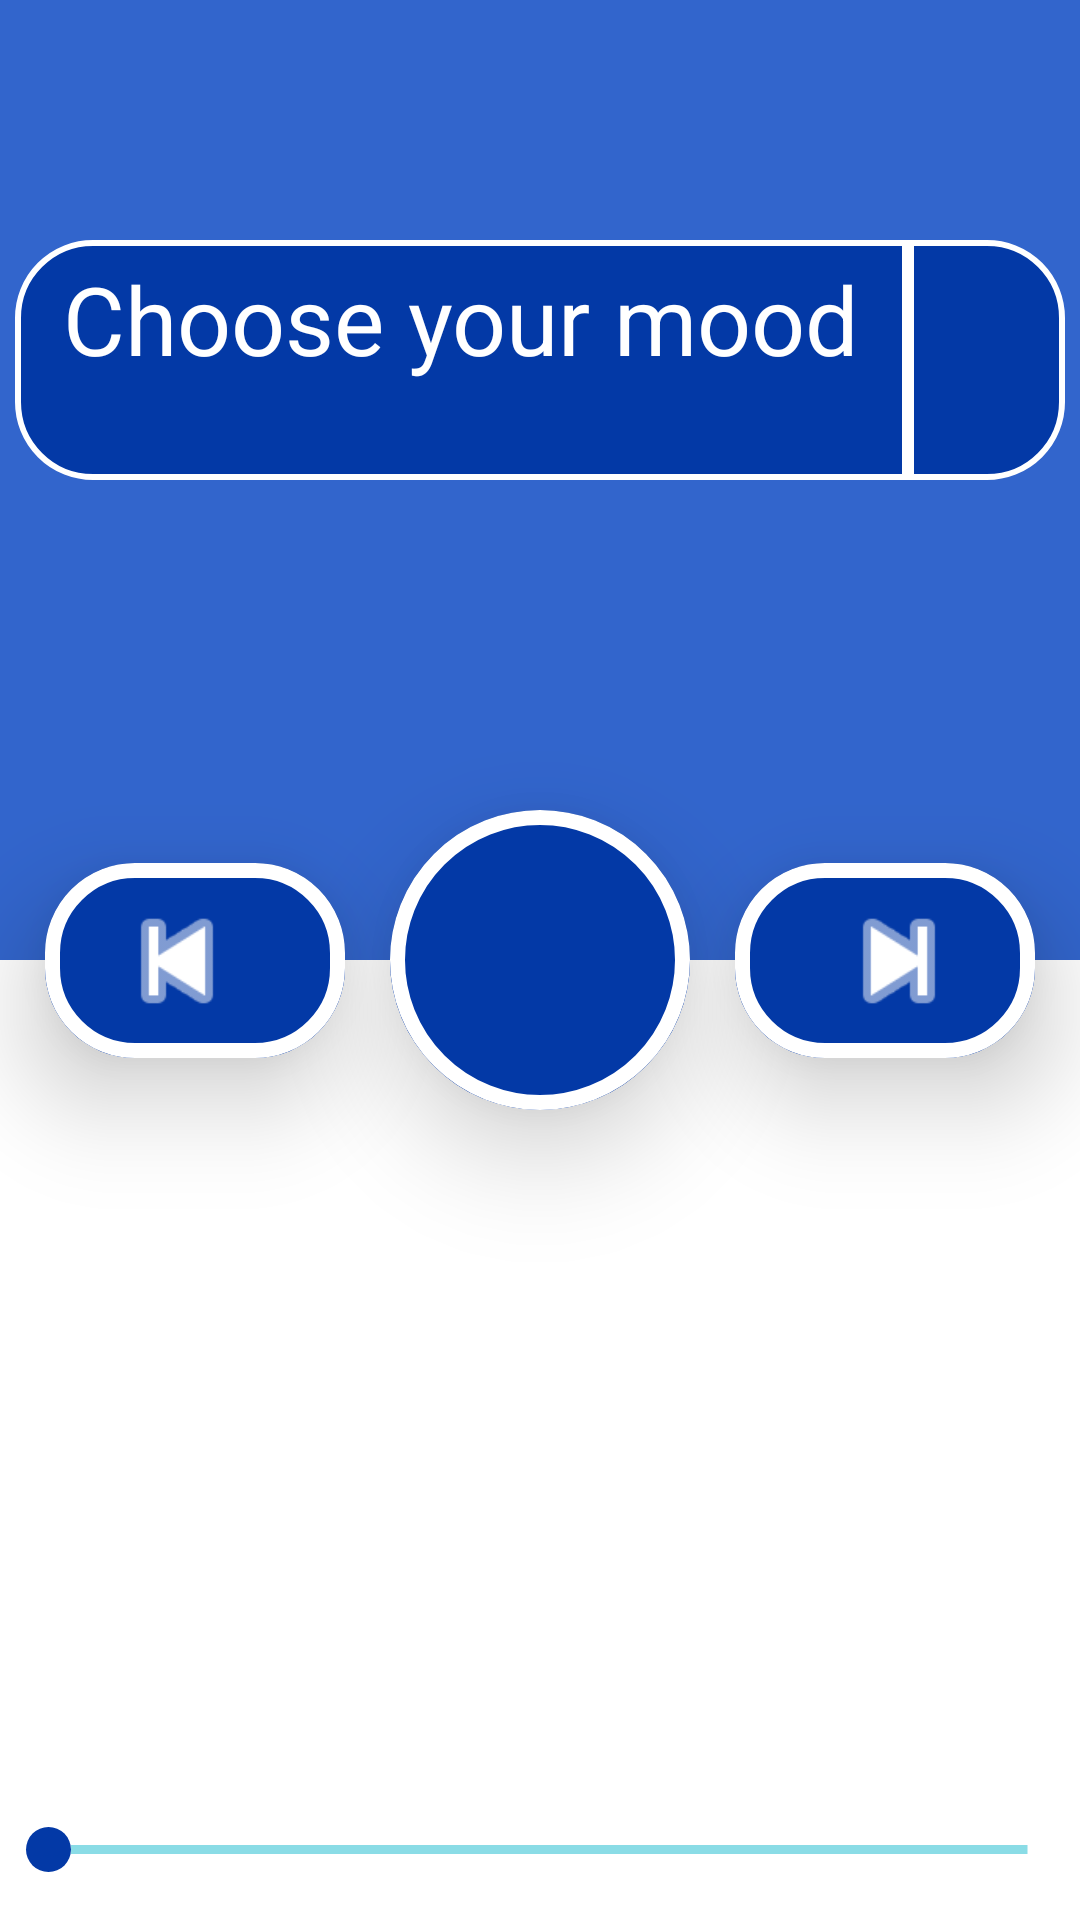

Screen size 1080 × 1920. Icon name, then its center in pixels as point (x, y):
next: point (885, 960)
previous: point (195, 960)
